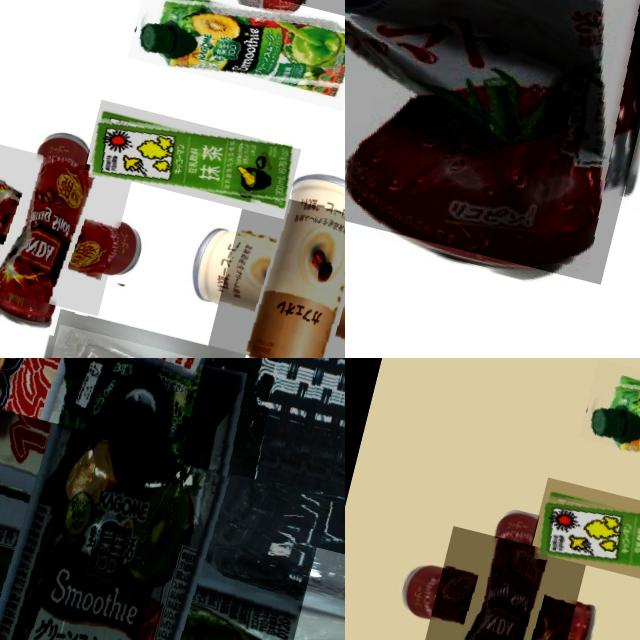Aluminium Foil: (0, 394, 329, 640), (0, 358, 230, 541), (83, 100, 300, 220), (126, 0, 345, 110), (528, 477, 640, 602), (577, 358, 640, 490)
Can: (345, 0, 640, 284), (206, 188, 345, 358), (0, 142, 131, 315), (418, 525, 586, 640)
Transparent Plastic Bottle: (160, 358, 345, 574), (43, 324, 276, 358)
